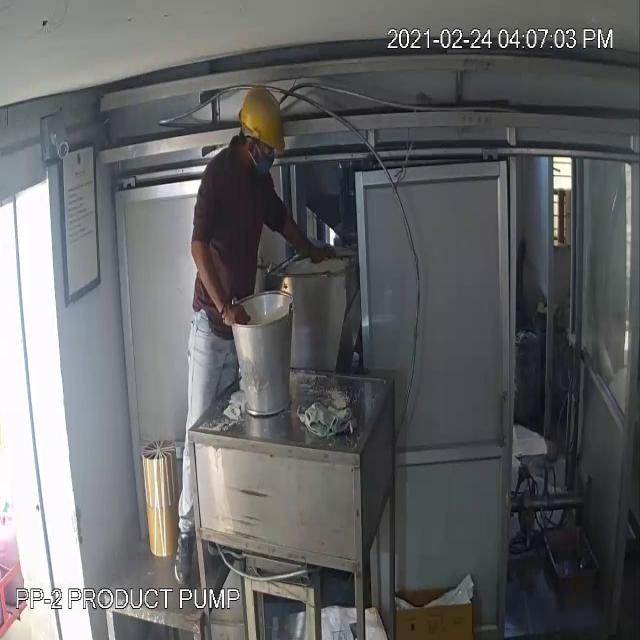hat: (235, 80, 291, 166)
